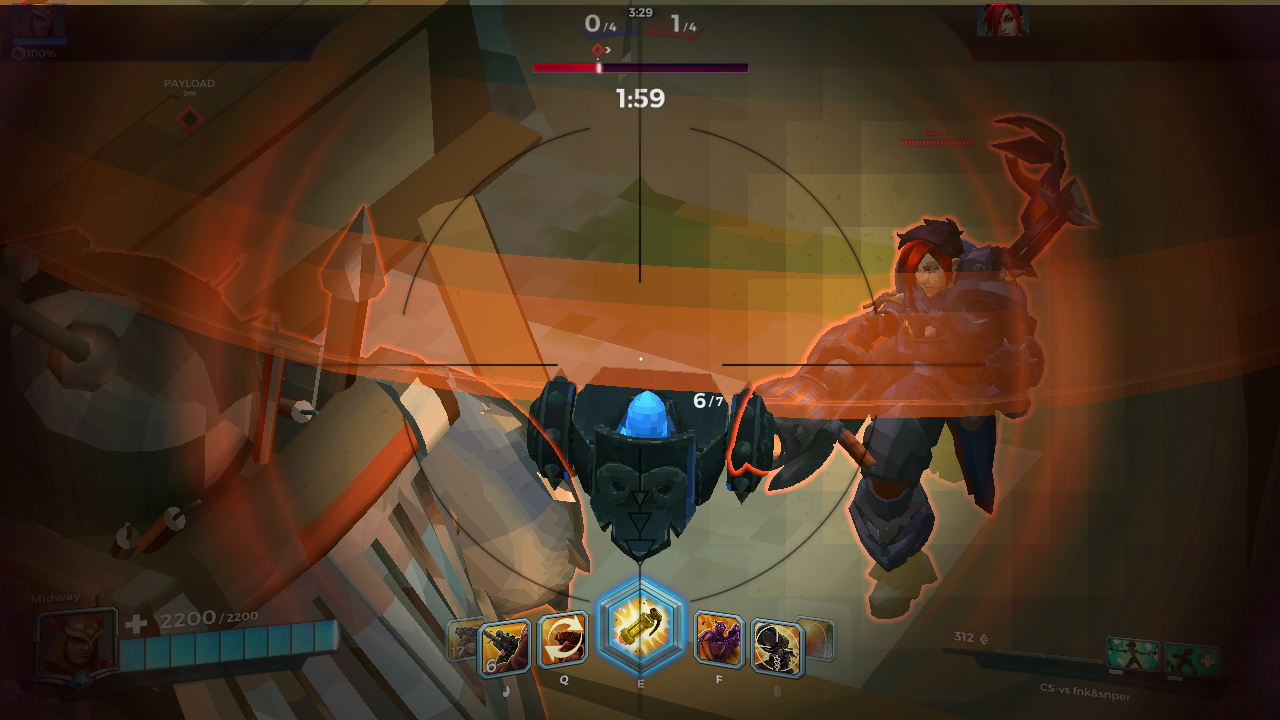model: (744, 106, 1108, 618)
